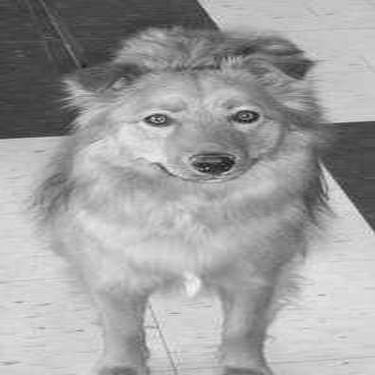dog: (29, 13, 337, 372)
